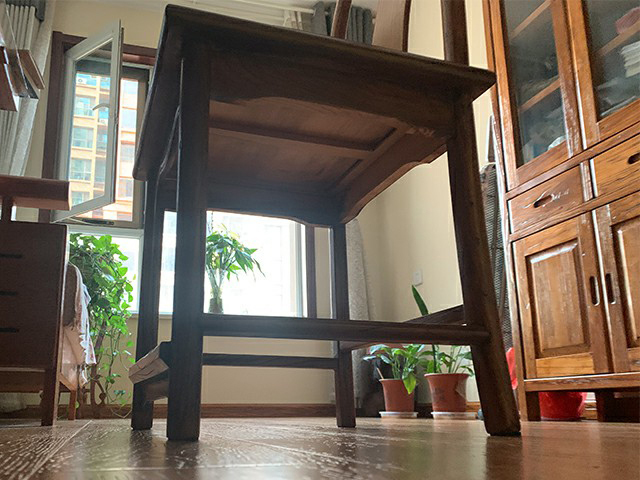cabinet: (481, 100, 640, 422)
sofa: (1, 173, 96, 426)
stool: (129, 1, 523, 442)
